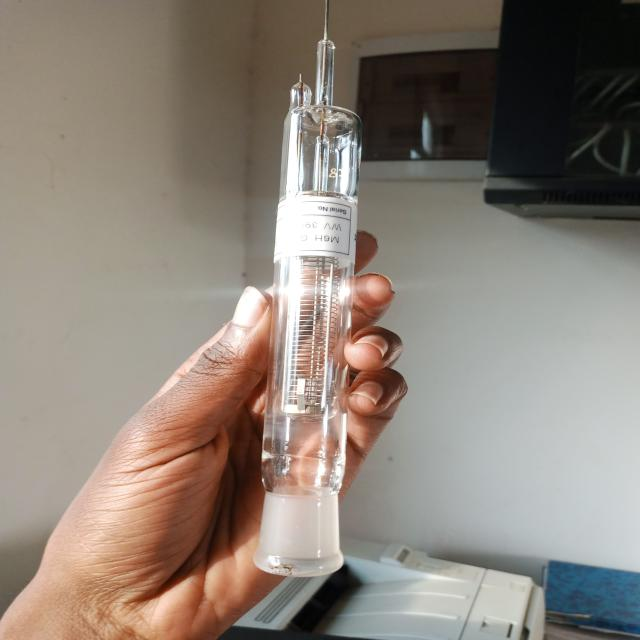Helium Lamp: (264, 12, 353, 574)
